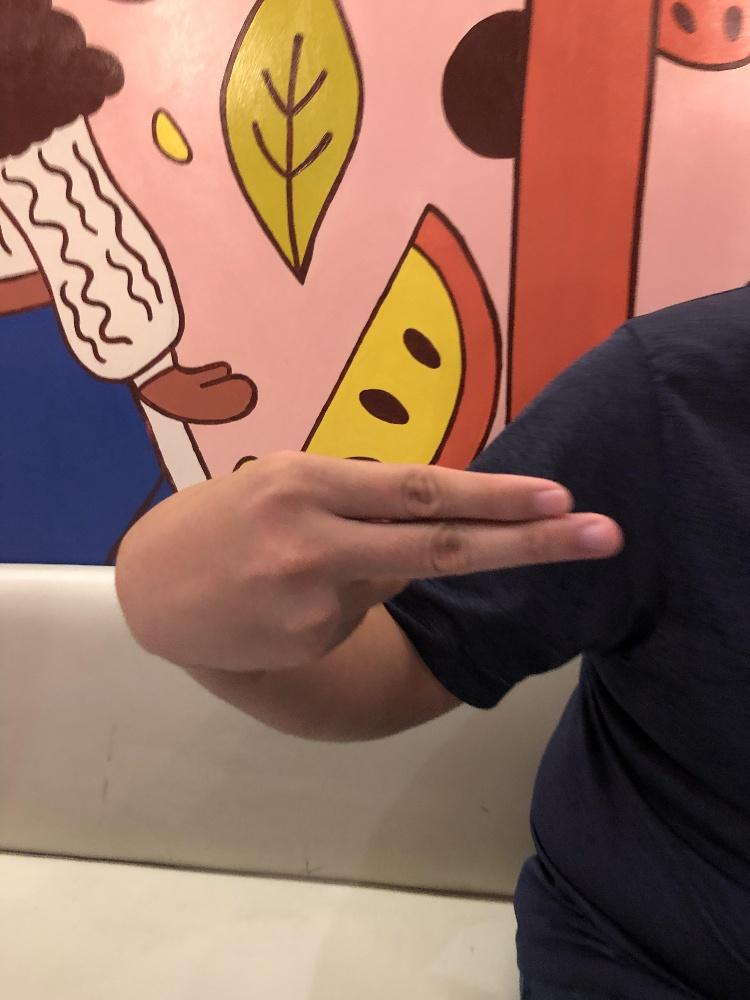h: (112, 448, 625, 672)
